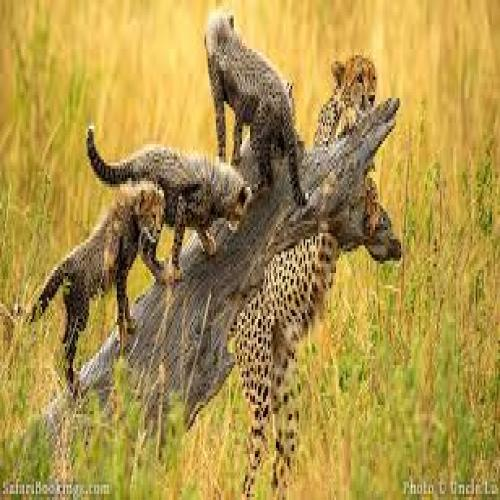cheetah-endangered: (240, 46, 385, 500), (84, 127, 249, 261), (44, 186, 166, 359), (202, 13, 302, 195)
